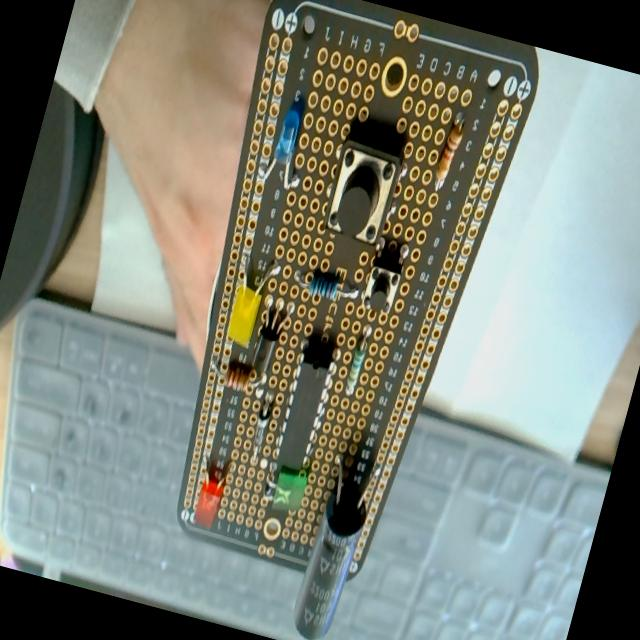Electrolytic capacitor: (281, 440, 390, 640)
IC: (270, 328, 348, 470)
diode: (243, 388, 284, 472)
led: (252, 96, 324, 200), (222, 251, 280, 347), (187, 452, 237, 530), (252, 465, 310, 519)
resistor: (421, 104, 480, 210), (291, 252, 364, 308), (339, 328, 382, 412), (206, 350, 266, 394)
switch: (321, 116, 407, 244), (355, 243, 412, 325)
transistor: (250, 294, 294, 374)
